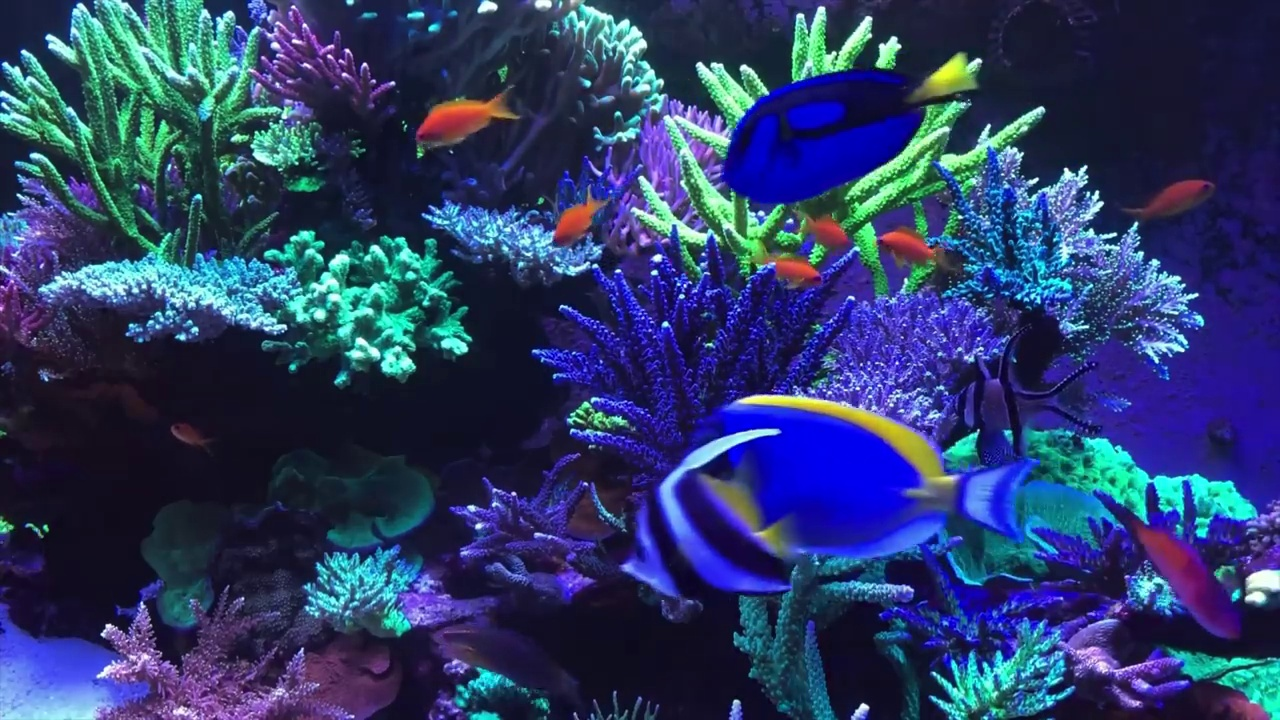fish: (675, 392, 1023, 560), (721, 49, 981, 206), (623, 428, 816, 599), (945, 326, 1100, 464), (1120, 507, 1248, 645), (414, 84, 523, 150), (1118, 175, 1216, 222), (874, 226, 960, 275), (553, 185, 604, 250), (749, 244, 821, 289), (800, 212, 851, 249), (168, 422, 213, 457)
